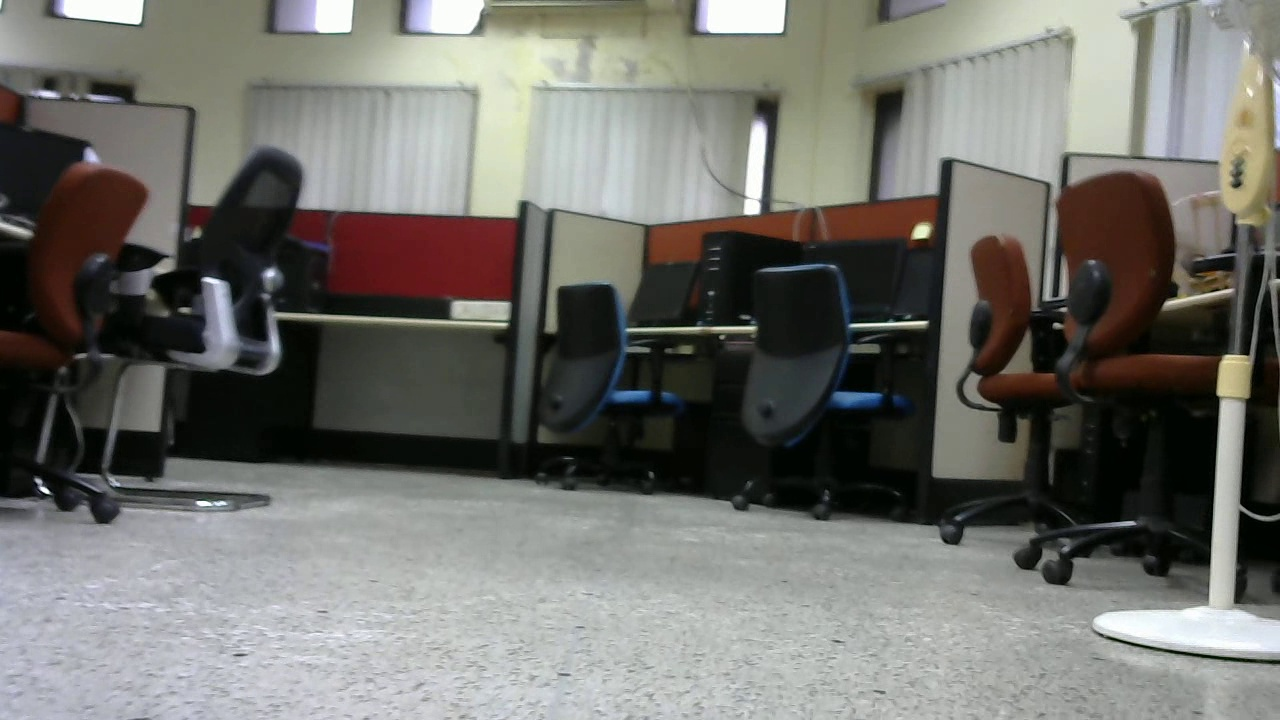chair: (1043, 165, 1280, 596), (151, 147, 330, 519), (937, 232, 1132, 568), (6, 159, 149, 524), (725, 266, 923, 527), (515, 282, 708, 493)
